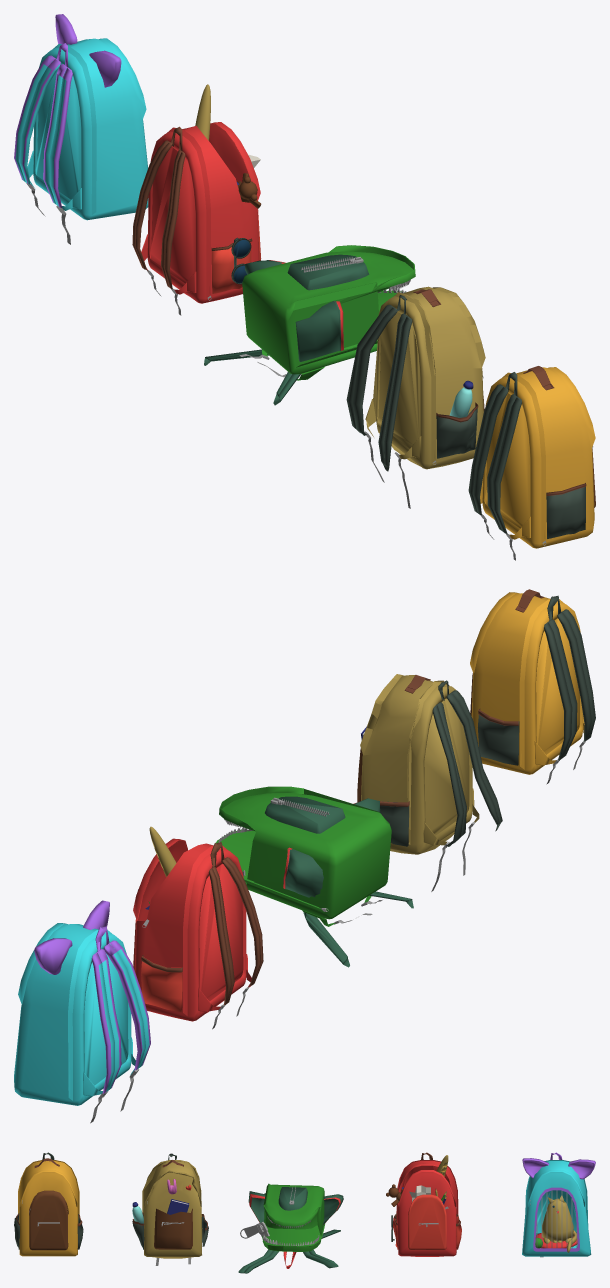
Rendered from TRY08.fbx.
3 views of the same model, one above another, from view 1: azimuth 30°, elevation 25°; view 2: azimuth 150°, elevation 25°; view 3: azimuth 270°, elevation 25° (orthographic). The views are drawn at different scales.
Parts seen in each view (by area): view 1: Cube.069, Cube.050, Cube.016, Cube, Cube.031, Plane.008, Cube.080, Cube.079, Cube.028, Cube.027, Cube.032, Cube.013 (+7 smaller); view 2: Cube.069, Cube.050, Cube.031, Cube.016, Cube, Cube.079, Cube.080, Cube.012, Cube.032, Plane.010, Plane.001, Cube.013 (+7 smaller); view 3: Cube.069, Cube.016, Cube, Cube.050, Cube.031, Cube.001, Cube.052, Cube.017, Cylinder, Plane.014, Cube.032, Cube.041 (+11 smaller).
Part boxes in pixels (x1,y1,x2,y2): Cube.069: (27, 38, 148, 220); Cube.050: (141, 122, 260, 303); Cube.016: (365, 286, 485, 469); Cube: (480, 367, 595, 548); Cube.031: (242, 245, 415, 380); Plane.008: (295, 301, 343, 361); Cube.080: (43, 64, 72, 208); Cube.079: (14, 55, 60, 185); Cube.028: (378, 313, 412, 471); Cube.027: (346, 304, 396, 435); Cube.032: (287, 254, 369, 290); Cube.013: (487, 394, 521, 534); Cube.069: (14, 923, 135, 1105); Cube.050: (133, 838, 251, 1021); Cube.031: (216, 786, 391, 926); Cube.016: (360, 674, 479, 854); Cube: (470, 592, 584, 774); Cube.079: (91, 949, 121, 1093); Cube.080: (103, 940, 150, 1071); Cube.012: (544, 619, 577, 760); Cube.032: (265, 796, 345, 833); Plane.010: (141, 955, 182, 1012); Plane.001: (478, 708, 519, 765); Cube.013: (557, 609, 595, 742); Cube.069: (522, 1160, 591, 1256); Cube.016: (142, 1160, 202, 1258); Cube: (18, 1160, 79, 1256); Cube.050: (396, 1160, 458, 1256); Cube.031: (262, 1183, 325, 1251); Cube.001: (29, 1190, 68, 1250); Cube.052: (408, 1194, 446, 1250); Cube.017: (154, 1208, 192, 1249); Cylinder: (542, 1195, 573, 1243); Plane.014: (536, 1190, 577, 1247); Cube.032: (278, 1187, 307, 1210); Cube.041: (238, 1229, 340, 1273).
Size of the model in its own units: 351 by 407 by 1704.
